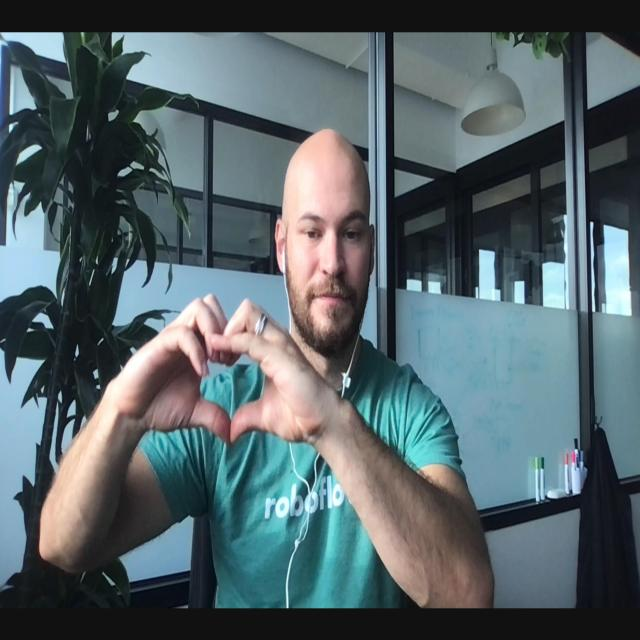face: (286, 155, 368, 355)
